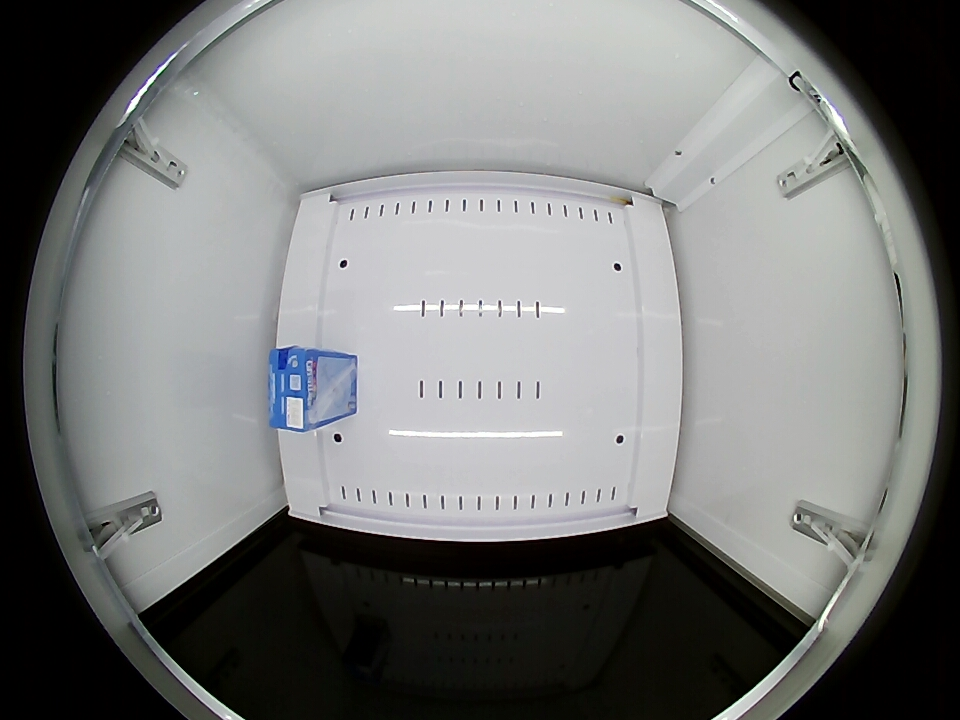weitanai: (268, 347, 334, 433)
